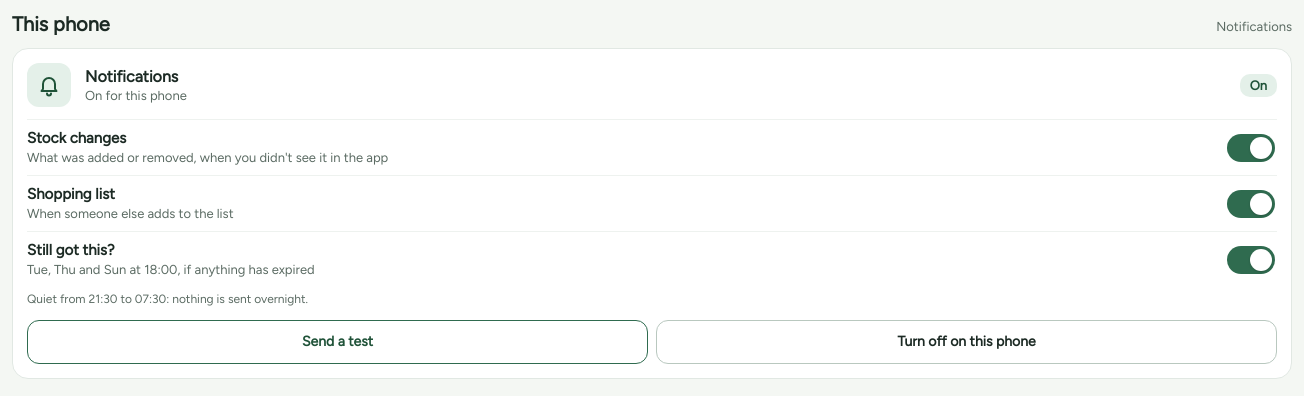
the This phone card › on: Turn off on this phone unsubscribes and removes it
The image size is (1304, 396).
Click the button "Turn off on this phone" at (966, 342), box x1=656 y1=320 x2=1277 y2=364
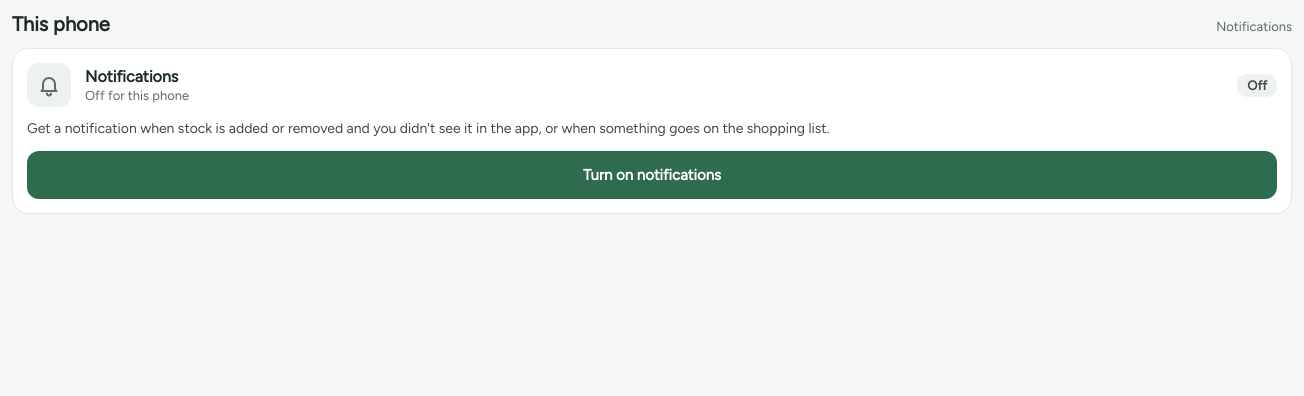
Now the button "Turn on notifications" is shown, box x1=27 y1=151 x2=1277 y2=199
